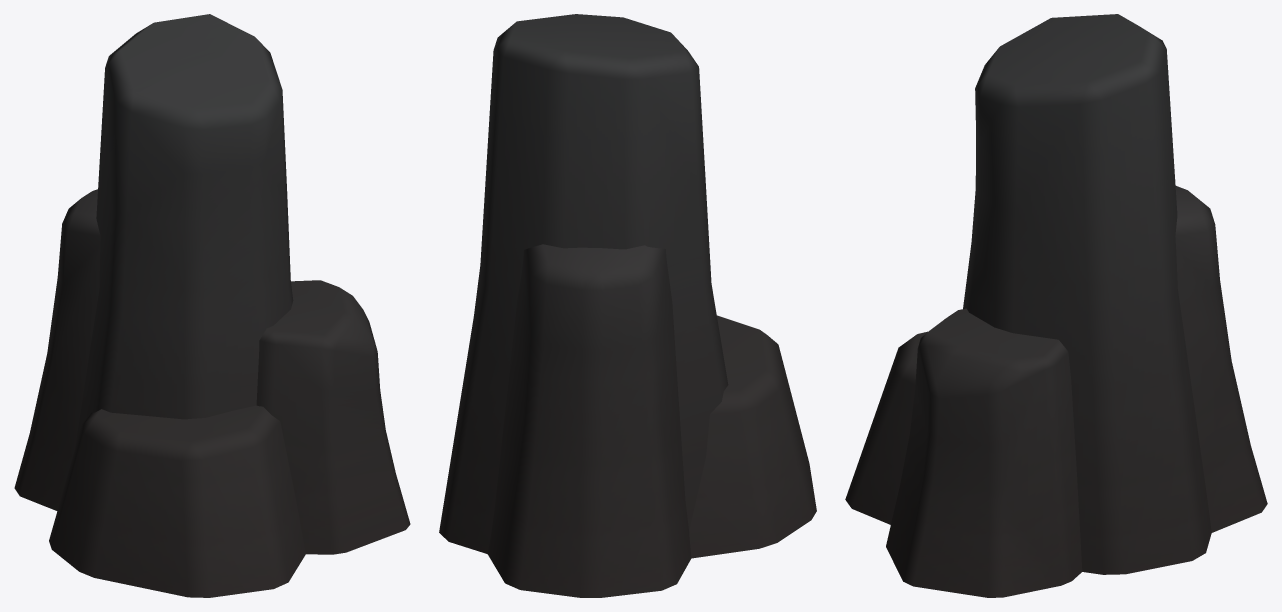
Rendered from inferno-rock-small-001.glb.
The picture shows the model from 3 angles, left to right: view 1: azimuth 30°, elevation 25°; view 2: azimuth 150°, elevation 25°; view 3: azimuth 270°, elevation 25°; orthographic projection. The views are drawn at different scales.
Parts seen in each view (by area): view 1: RockSmall_001; view 2: RockSmall_001; view 3: RockSmall_001.
Boxes of the visible parts, x1,y1,x2,y2 form: RockSmall_001: (14,14,410,597); RockSmall_001: (439,14,816,597); RockSmall_001: (845,14,1267,597).
Bounding box in the file's own units: 3.38 × 4.6 × 3.67.
Materials: 1 (1 with a texture image).
